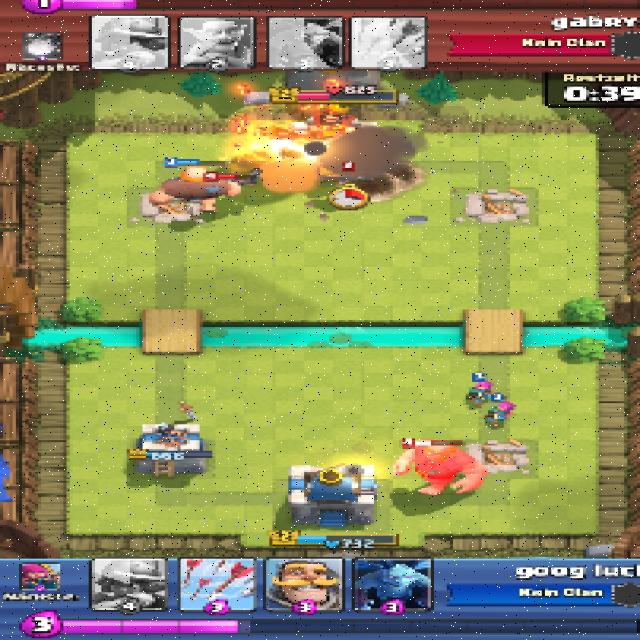Enemy-Giant: (393, 442, 488, 498)
Enemy-Knight: (330, 159, 365, 190)
Enemy-MiniPEKKA: (211, 169, 258, 192)
Player-Archer: (484, 400, 517, 424), (464, 380, 494, 403)
Player-Fireball: (236, 128, 330, 174)
Player-Giant: (146, 168, 240, 212)
